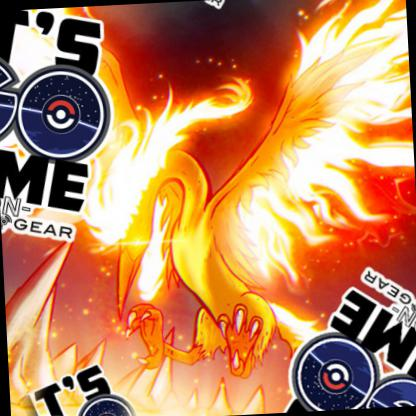Moltres: (1, 1, 412, 416)
